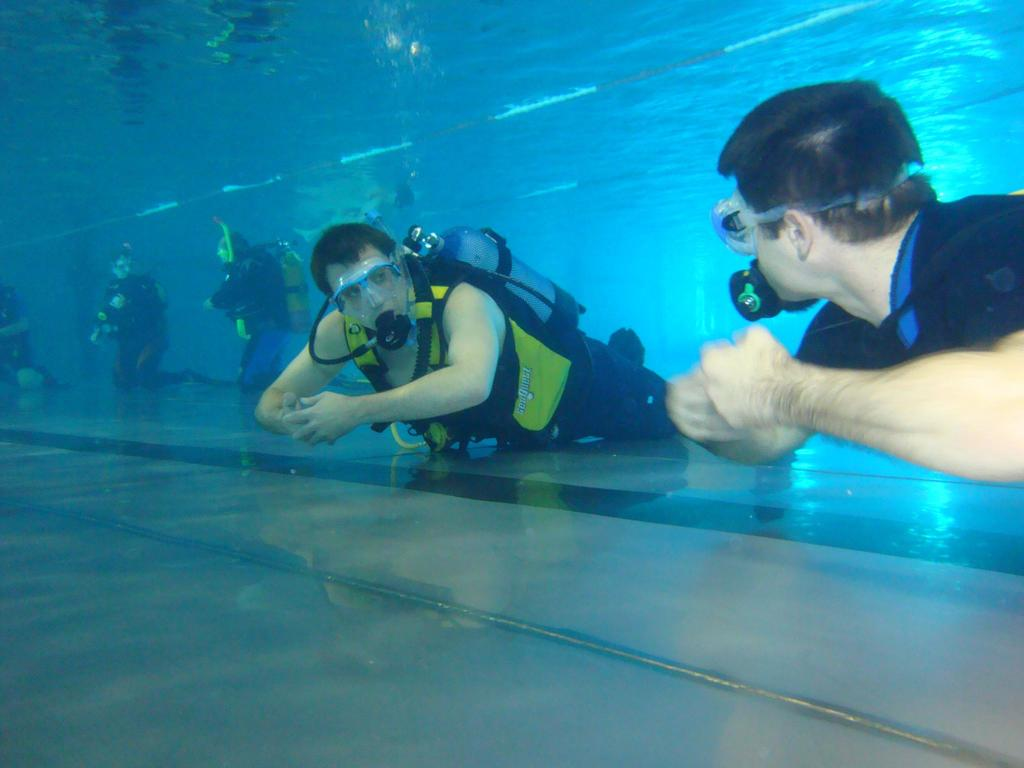Person: (253, 224, 780, 521), (660, 80, 1024, 483), (98, 254, 207, 396), (203, 231, 293, 394), (0, 283, 72, 389)
